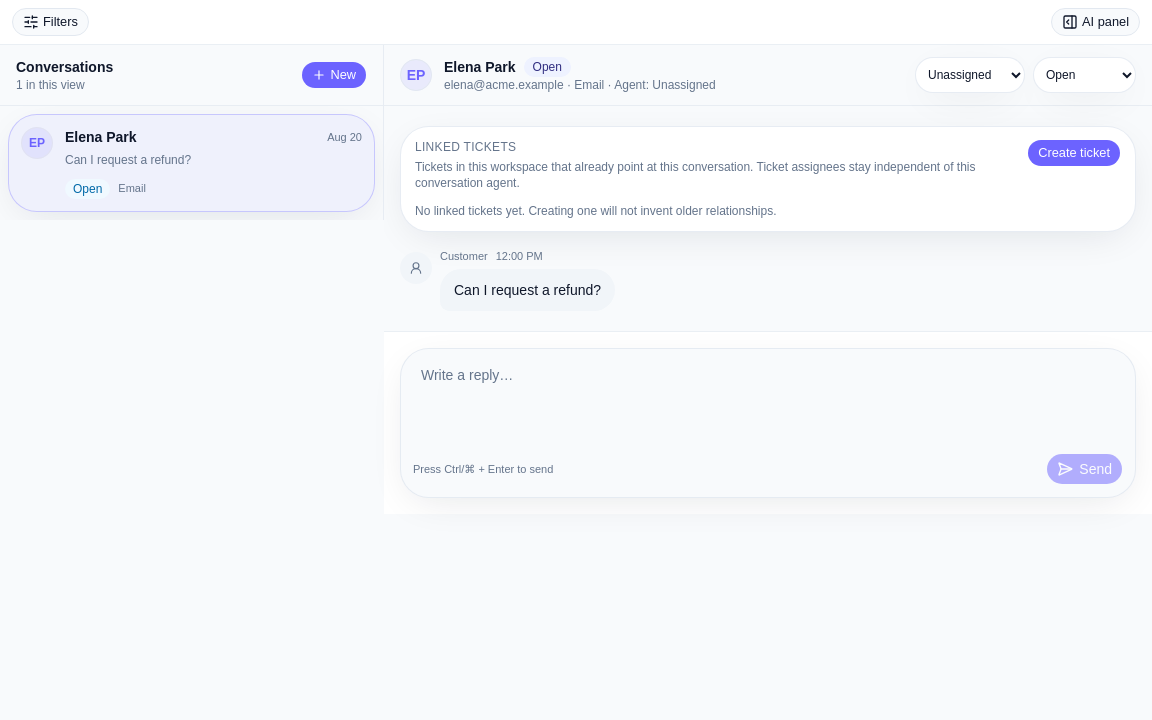
Test: ConversationsInbox › assigns, reassigns, and unassigns a conversation agent without changing status
Click the text "Elena Park" at (101, 137), box [65, 127, 137, 147]
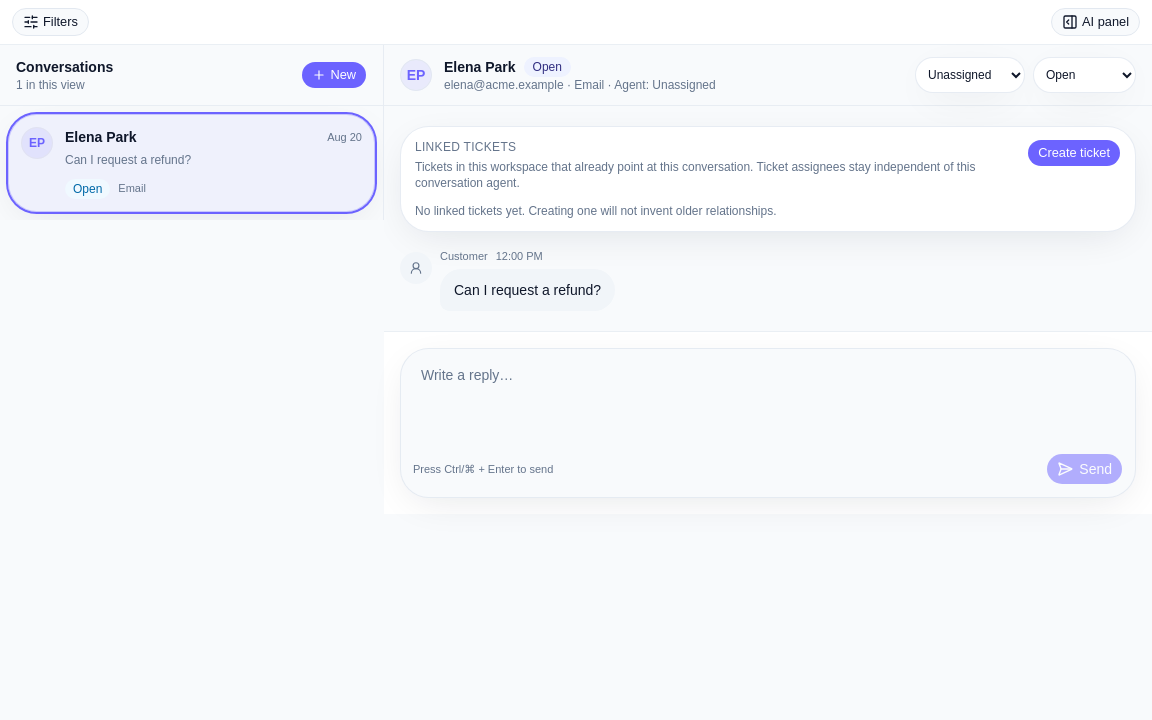
Select "Sarah Perera" in the dropdown named "Assigned agent" at (970, 75), box [915, 57, 1025, 93]
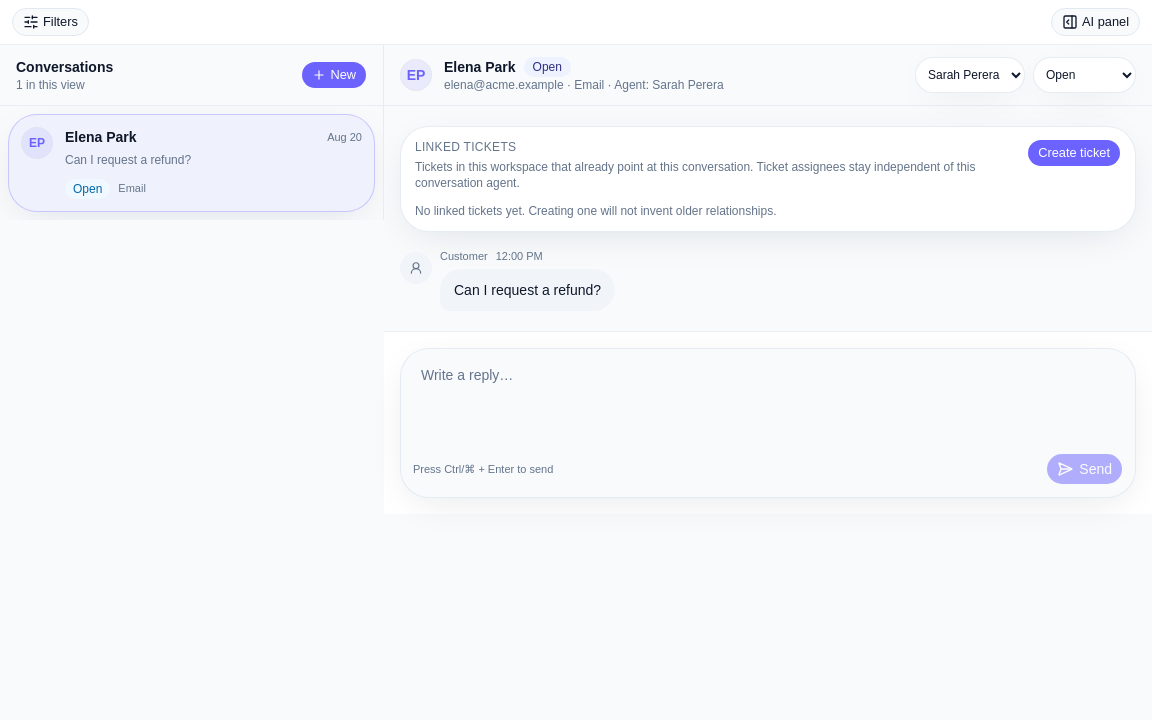
Expected: the dropdown named "Conversation status" shows "Open", [1033, 57, 1136, 93]
Now the text "elena@acme.example · Email · Agent: Sarah Perera" is shown, box [444, 78, 724, 92]
Select "Jordan Lee" in the dropdown named "Assigned agent" at (970, 75), box [915, 57, 1025, 93]
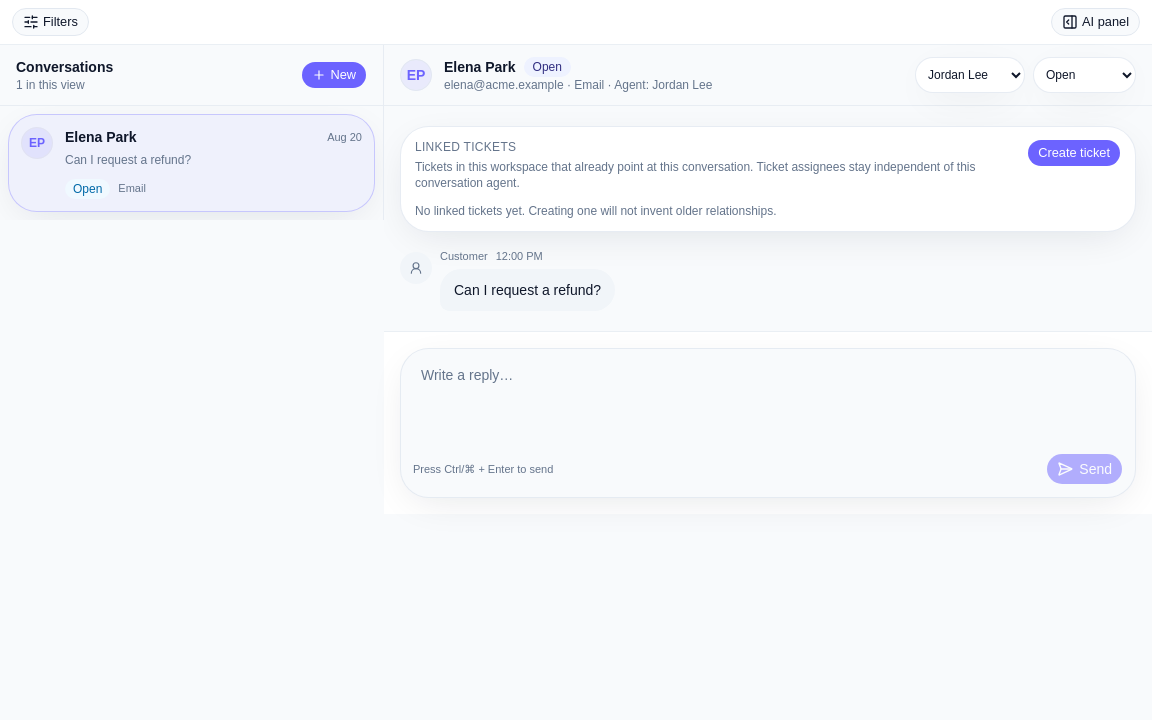
Now the text "elena@acme.example · Email · Agent: Jordan Lee" is shown, box [444, 78, 712, 92]
Select "Unassigned" in the dropdown named "Assigned agent" at (970, 75), box [915, 57, 1025, 93]
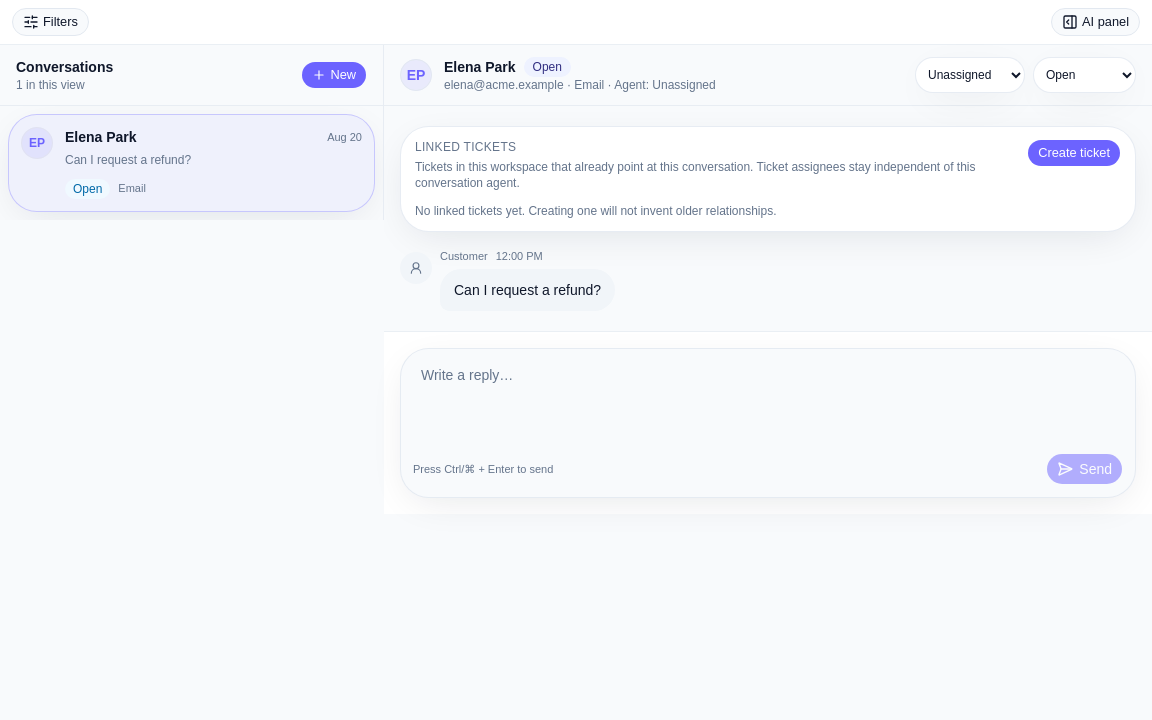
Expected: the dropdown named "Conversation status" shows "Open", [1033, 57, 1136, 93]
Now the text "elena@acme.example · Email · Agent: Unassigned" is shown, box [444, 78, 716, 92]
